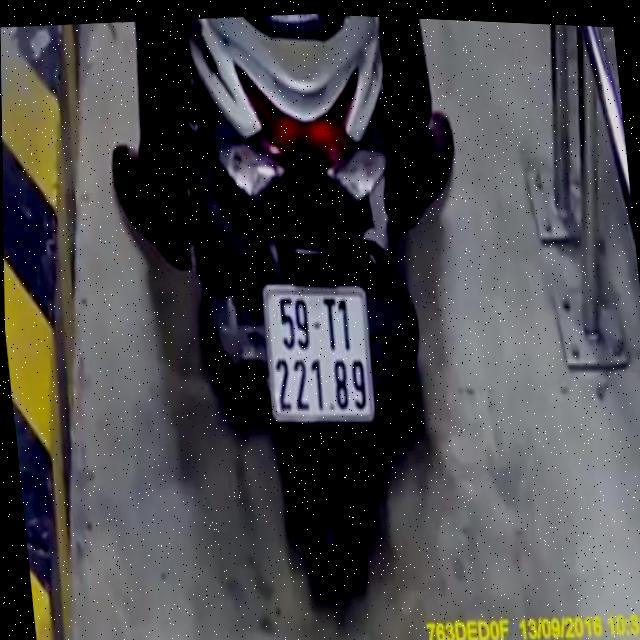motorcycle: (157, 7, 467, 609)
plate: (248, 273, 382, 434)
